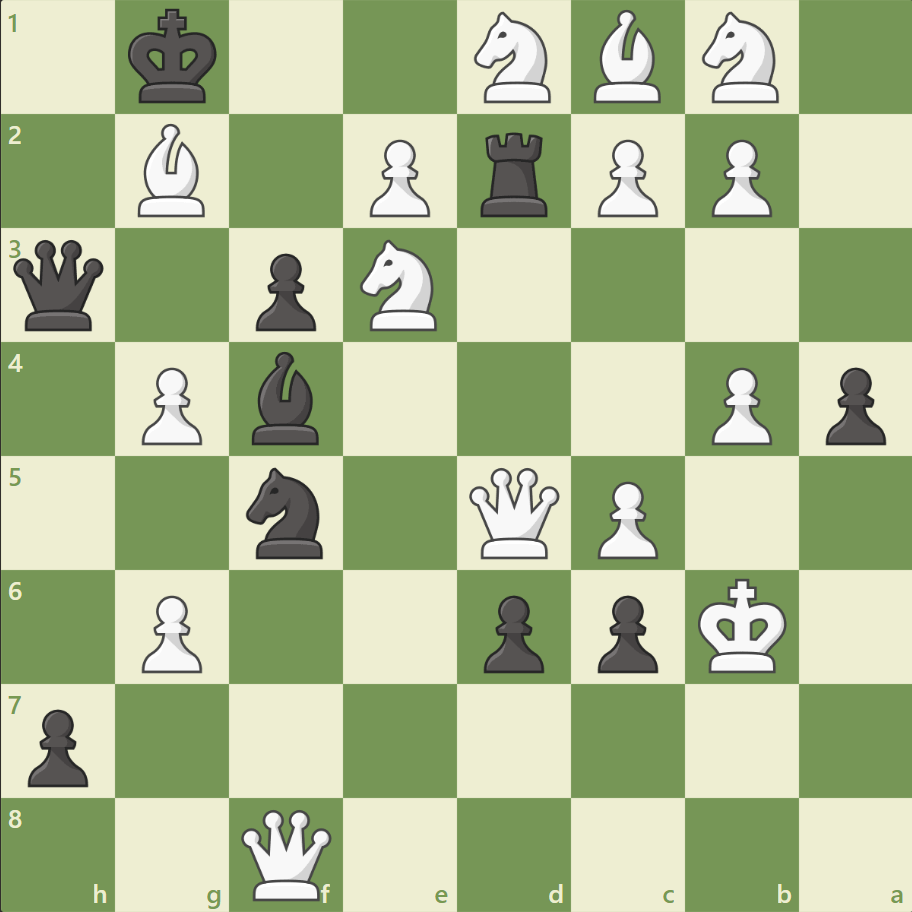B: (585, 6, 669, 109), (131, 120, 215, 222)
K: (692, 571, 792, 679)
N: (351, 234, 449, 337), (692, 7, 789, 110), (465, 7, 562, 110)
P: (133, 586, 208, 677), (701, 359, 776, 450), (133, 359, 208, 450), (701, 132, 776, 223), (588, 473, 662, 564), (588, 132, 662, 223), (361, 132, 435, 223)
Q: (237, 804, 336, 903), (464, 463, 563, 562)
b: (244, 347, 328, 449)
k: (124, 4, 224, 112)
n: (238, 461, 335, 564)
p: (20, 700, 95, 791), (474, 586, 549, 677), (247, 246, 322, 337), (588, 586, 662, 677), (815, 359, 889, 450)
q: (10, 236, 109, 335)
r: (473, 125, 556, 222)
